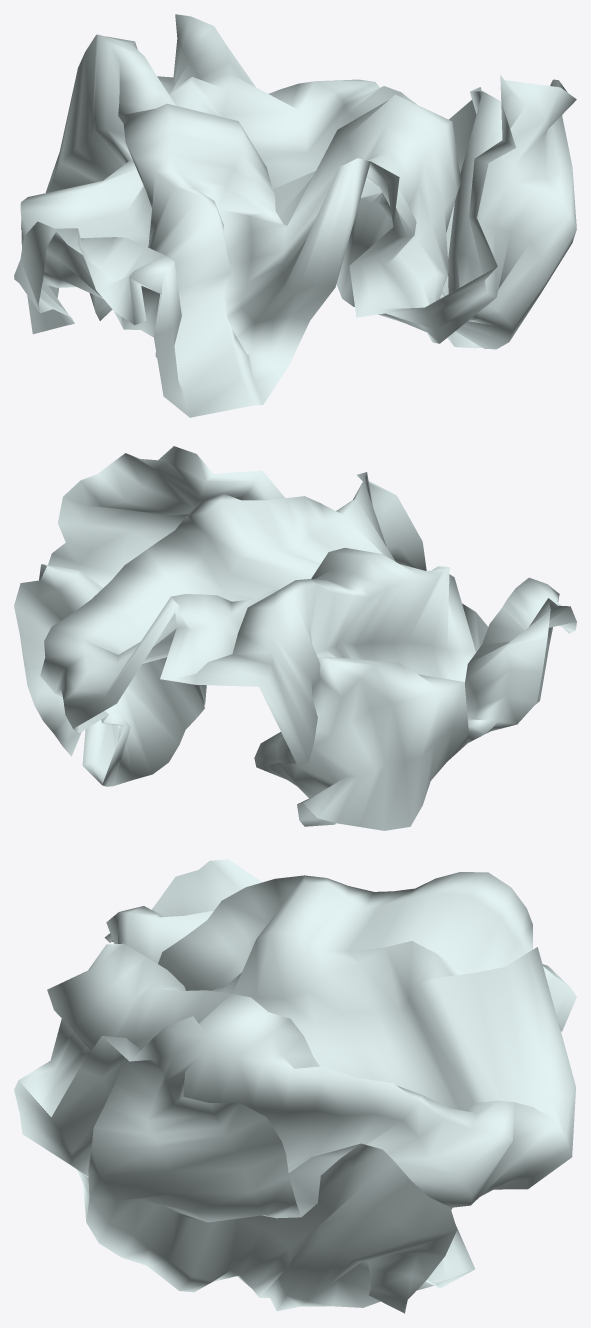
The model's file is papel.004.fbx.
3 renders of one model, top to bottom at view 1: azimuth 30°, elevation 25°; view 2: azimuth 150°, elevation 25°; view 3: azimuth 270°, elevation 25°, orthographic. The views are drawn at different scales.
Visible parts, largest first — view 1: papel.004; view 2: papel.004; view 3: papel.004.
Boxes of the visible parts, x1,y1,x2,y2 form: papel.004: (14,14,576,417); papel.004: (14,446,576,830); papel.004: (14,859,576,1313).
Bounding box in the file's own units: 128 × 67.63 × 111.
